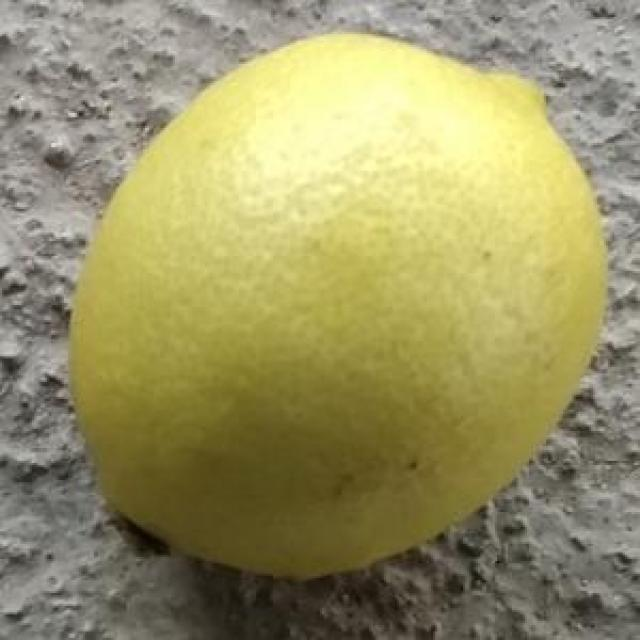lemon: (64, 33, 616, 584)
